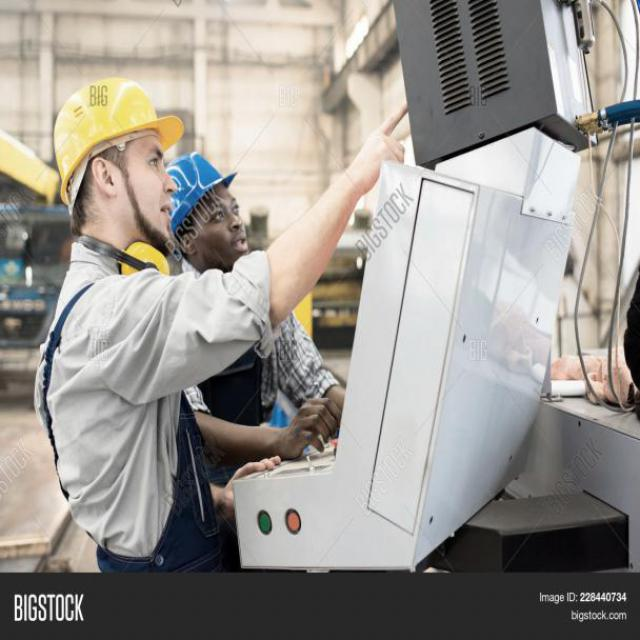helmet: (36, 68, 181, 264), (158, 142, 259, 265)
